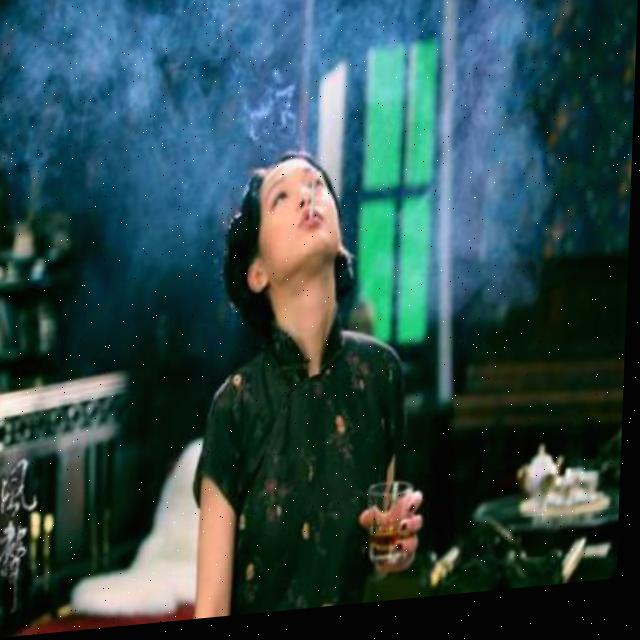cigarette: (311, 184, 317, 231)
